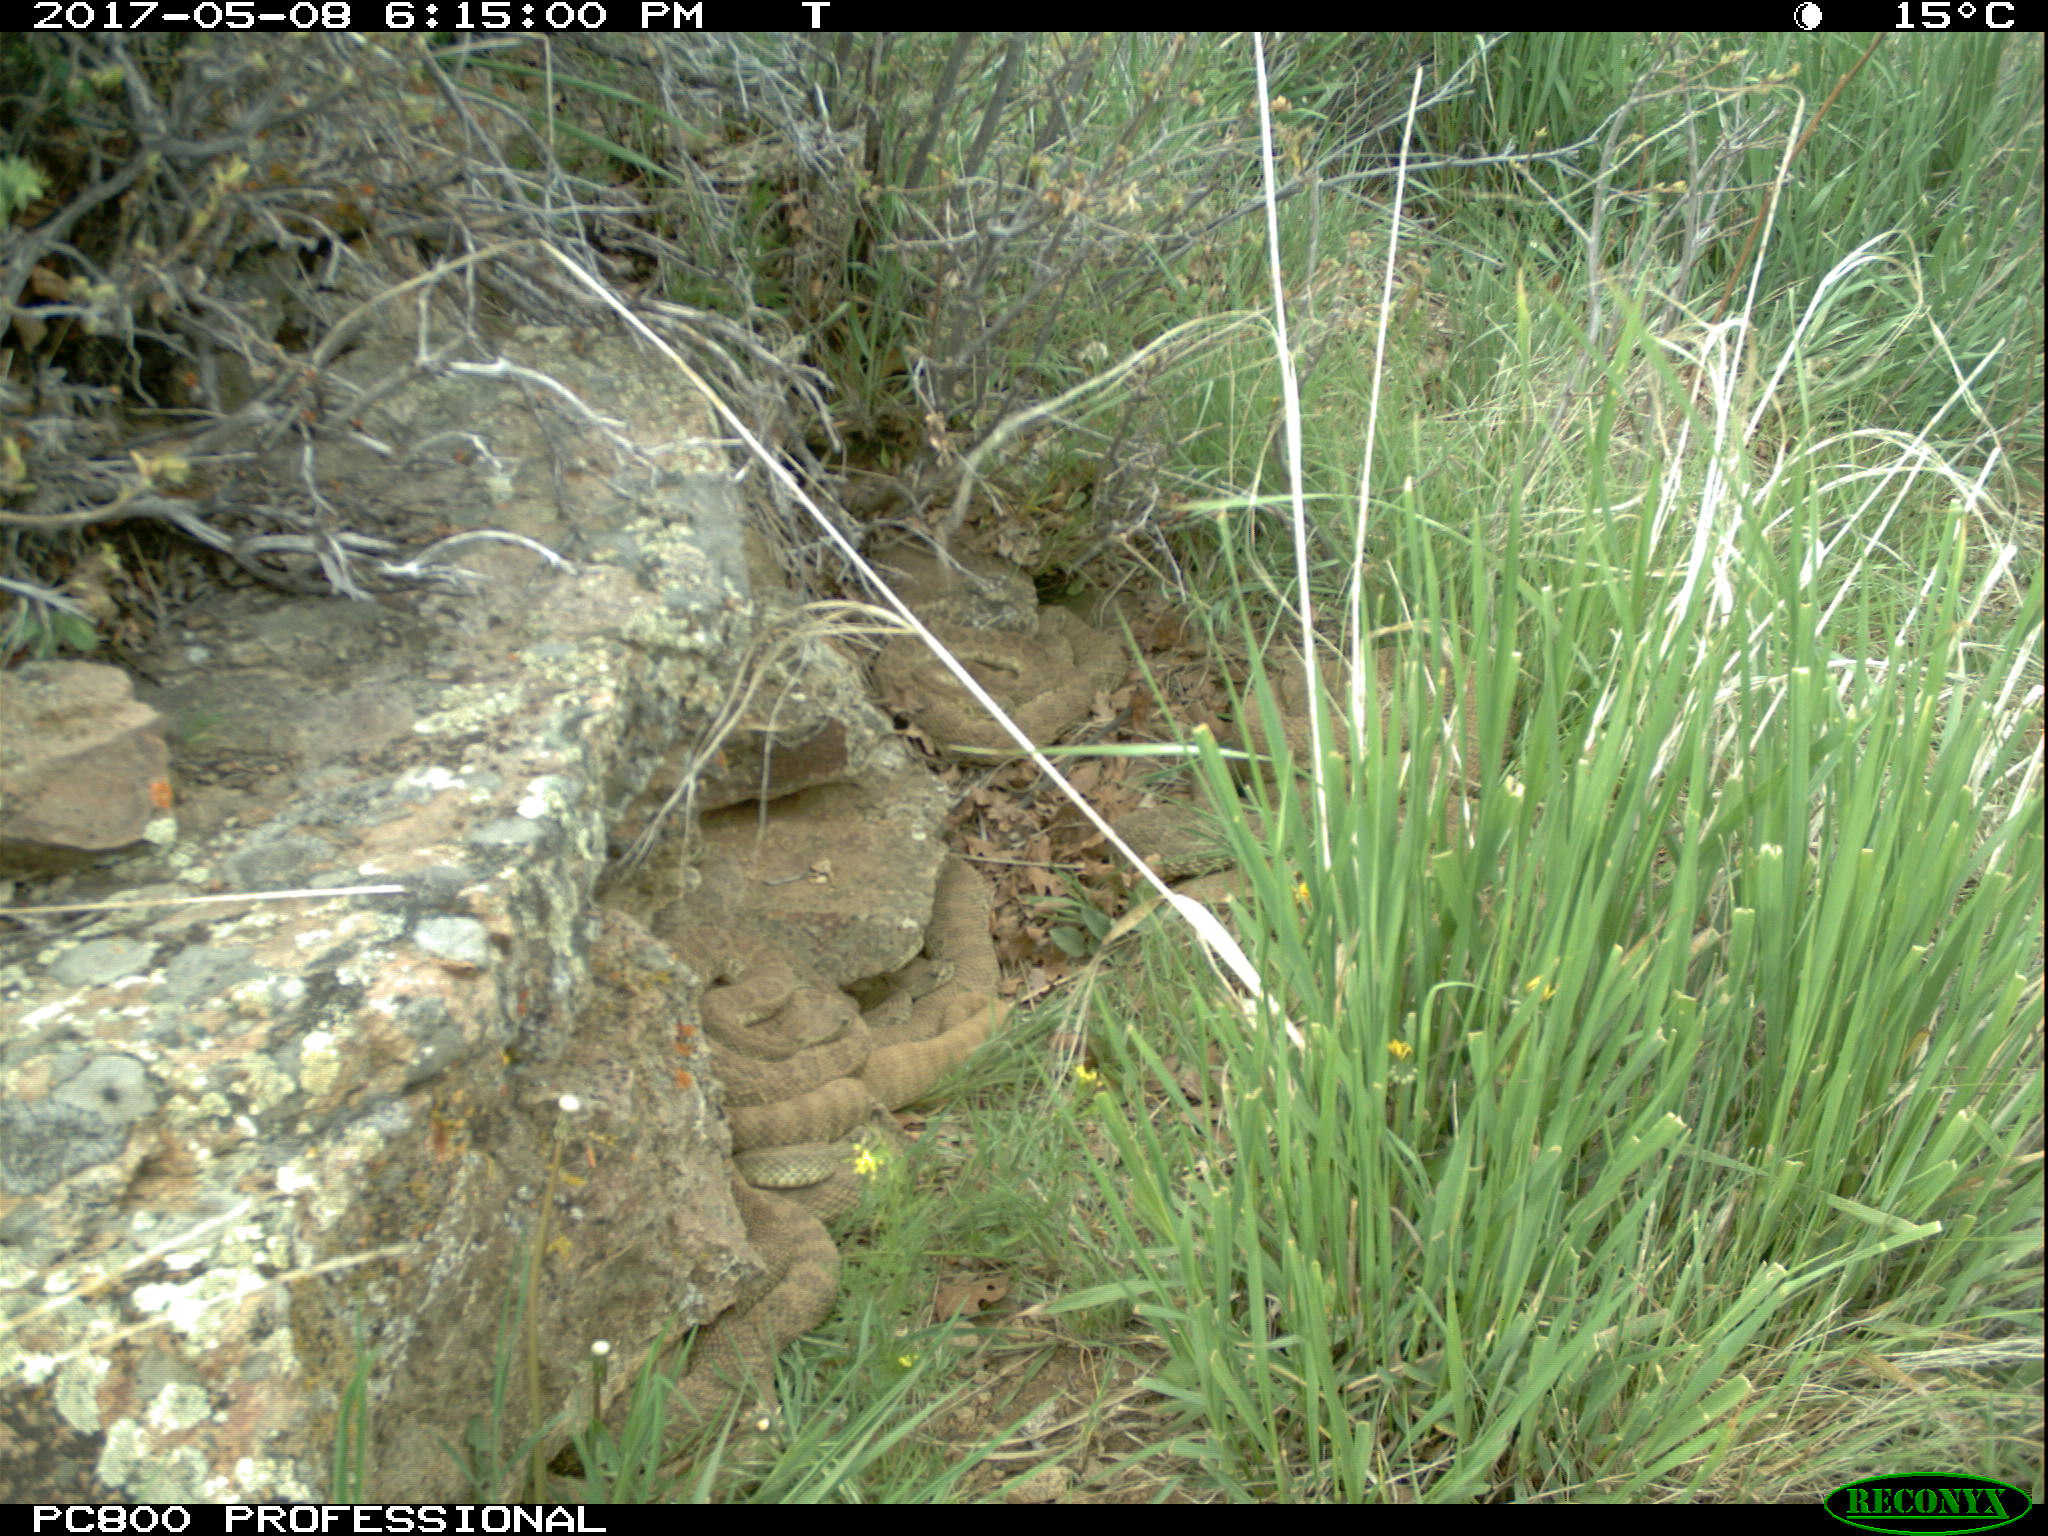snake: (569, 1210, 845, 1489), (698, 952, 898, 1187), (1238, 634, 1514, 799), (880, 618, 1126, 763), (879, 862, 1018, 1092), (1085, 794, 1319, 908)
